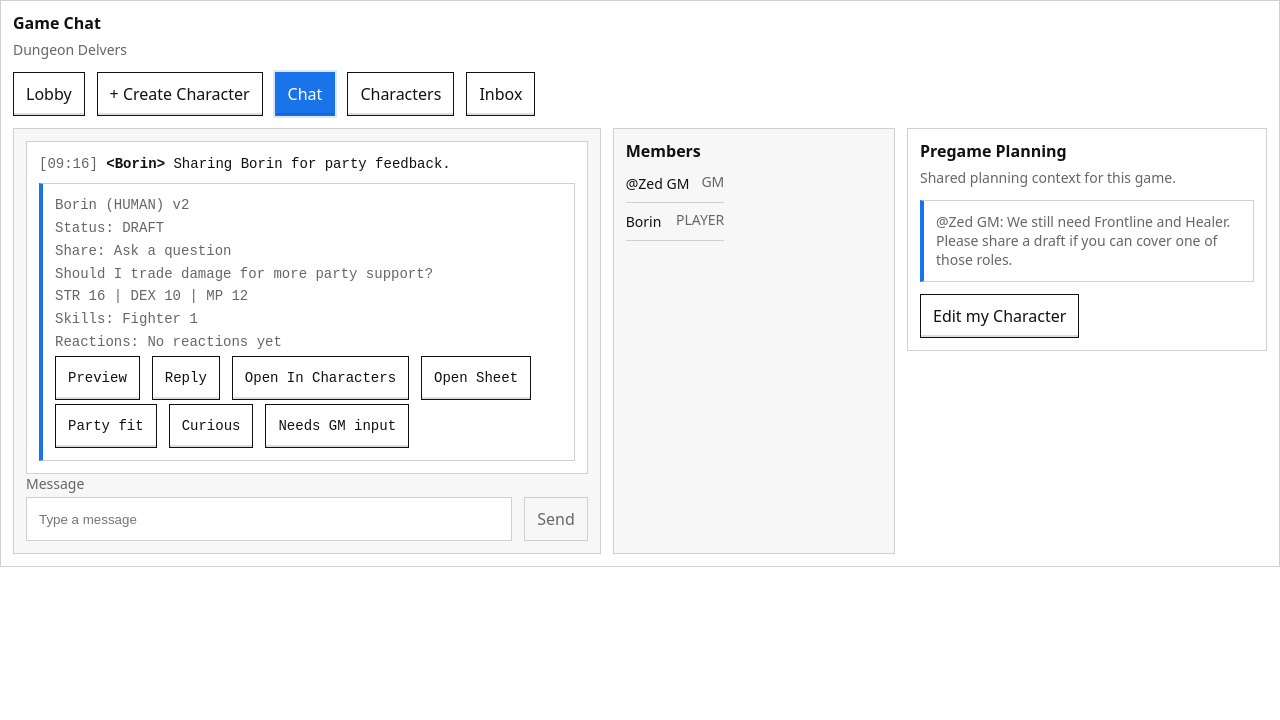
GameChatPage › sends durable reply targets for shared draft replies and allows clearing the reply context
Click the button "Reply": click(186, 378) left=152, top=356, right=220, bottom=400
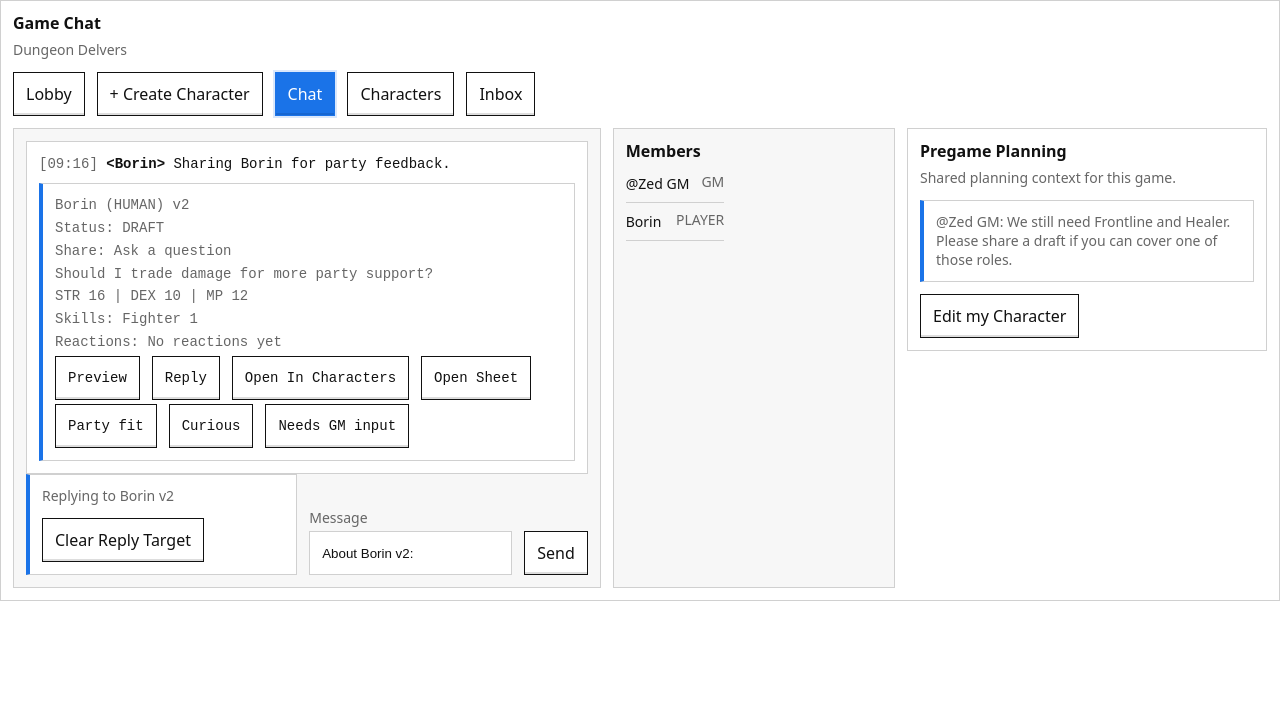
Check: the text "Replying to Borin v2" is shown, box left=42, top=487, right=174, bottom=506
Replace the text in the field labelled "Message" with "I think this build works.": (411, 553) left=309, top=531, right=512, bottom=575
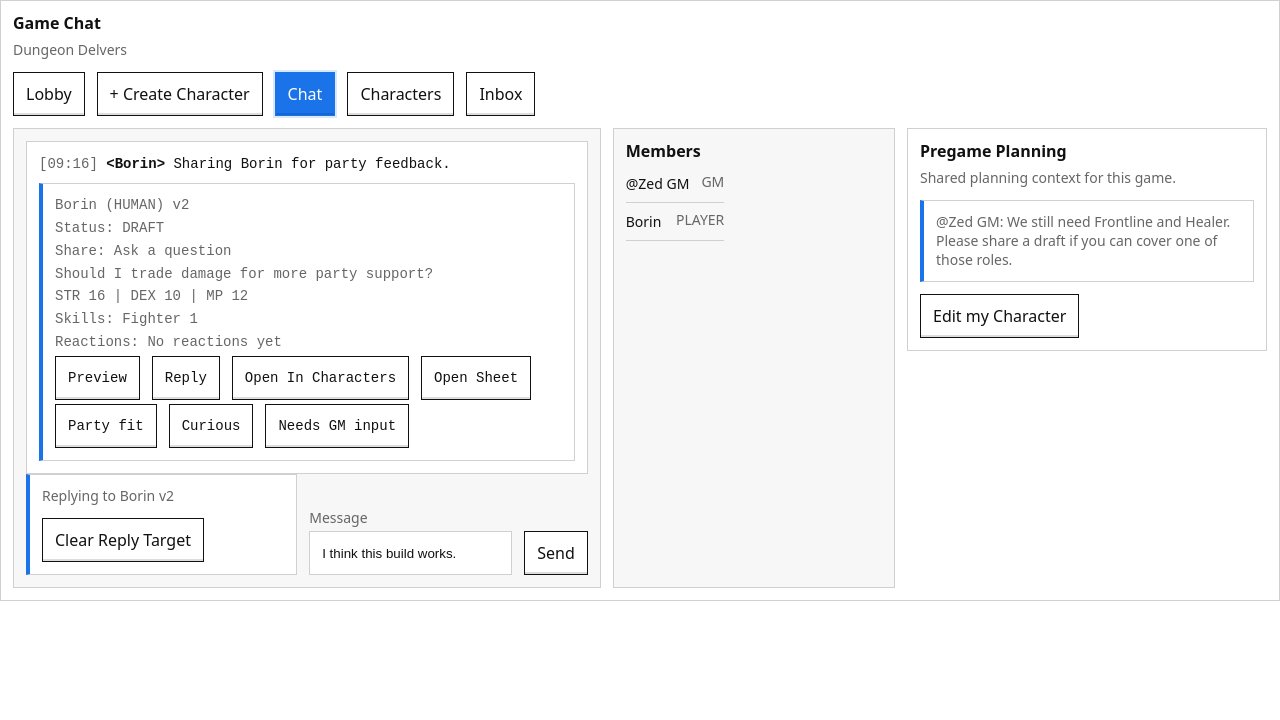
Click the button "Send": click(556, 553) left=524, top=531, right=588, bottom=575
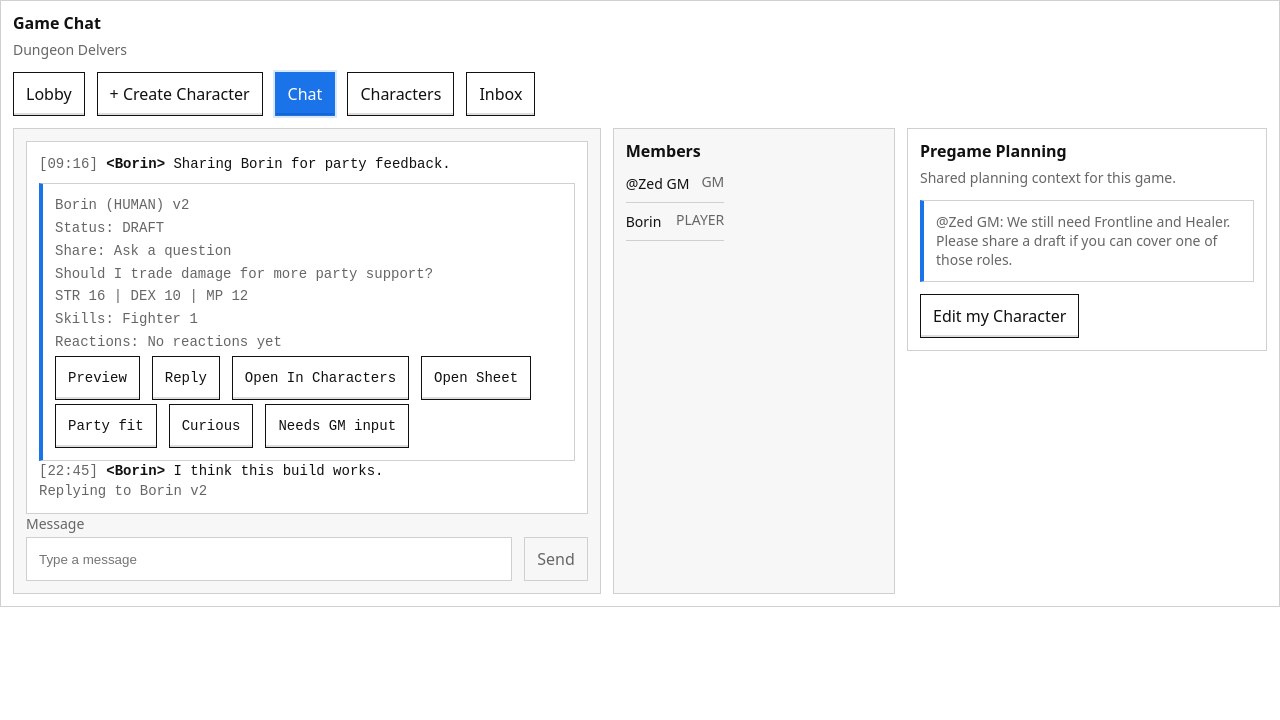
Click the button "Reply": click(186, 378) left=152, top=356, right=220, bottom=400
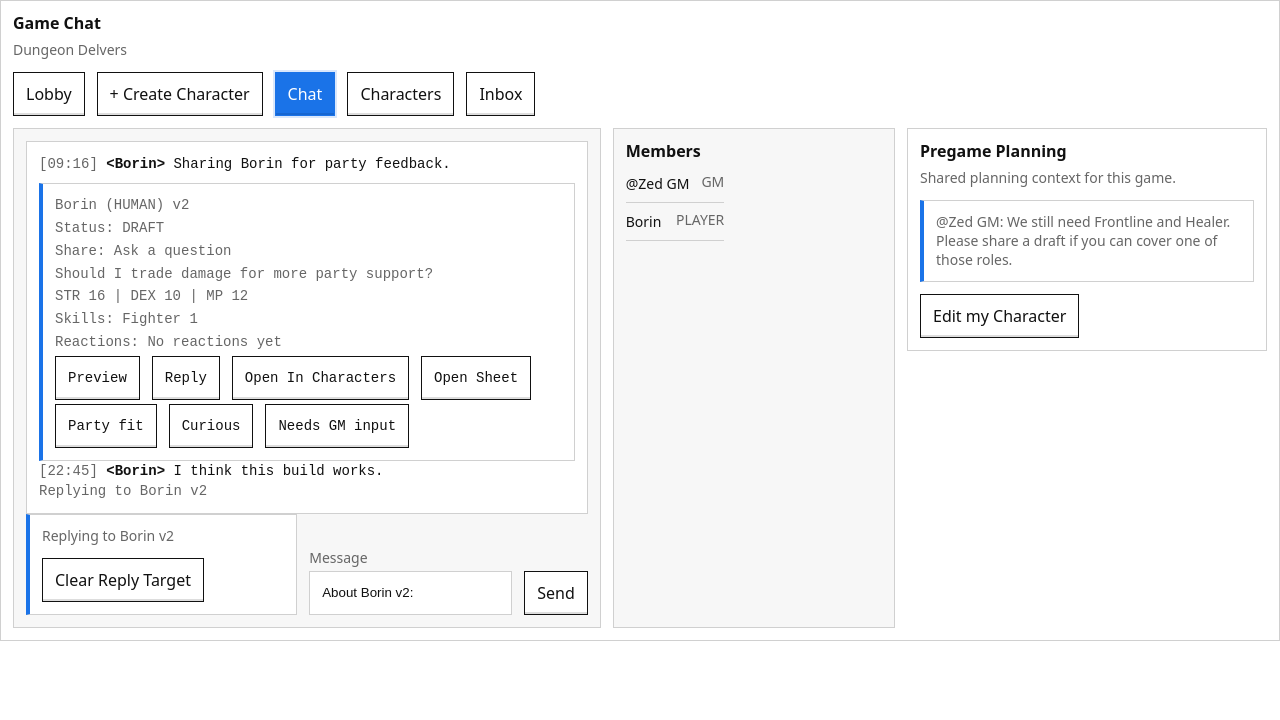
Click the button "Clear Reply Target": click(123, 580) left=42, top=558, right=204, bottom=602
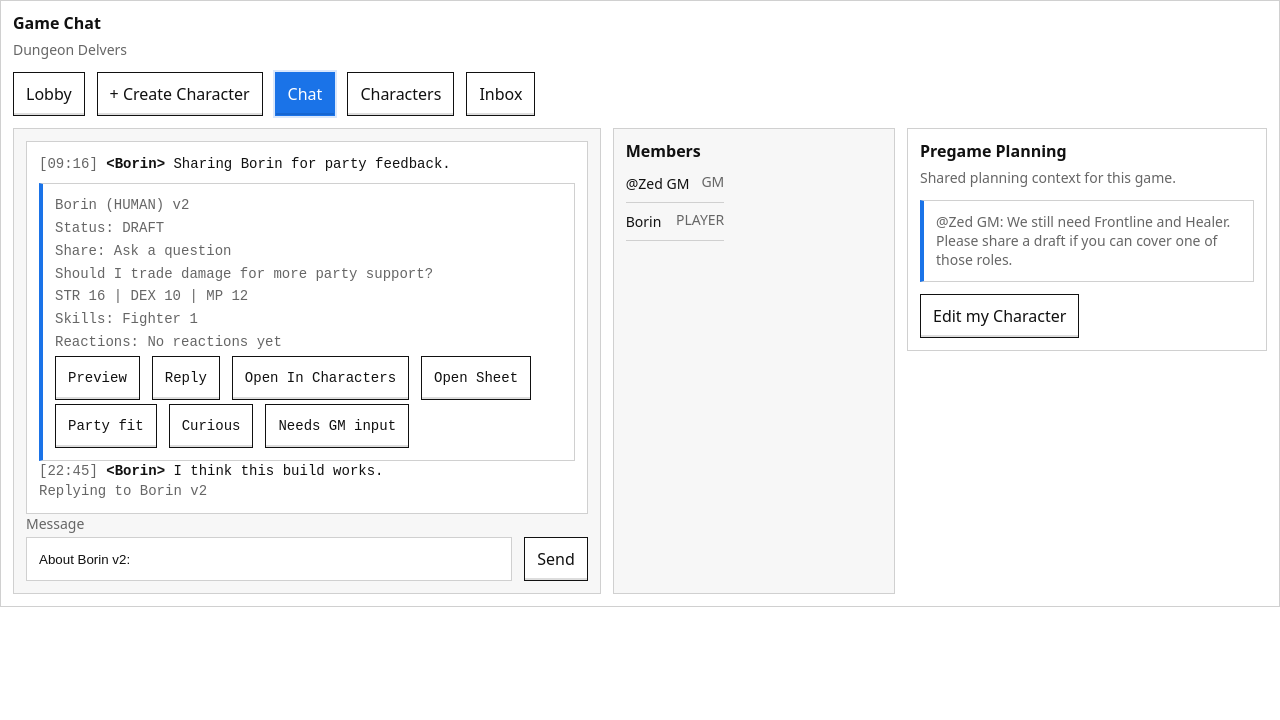
Check: the button "Clear Reply Target" is gone
